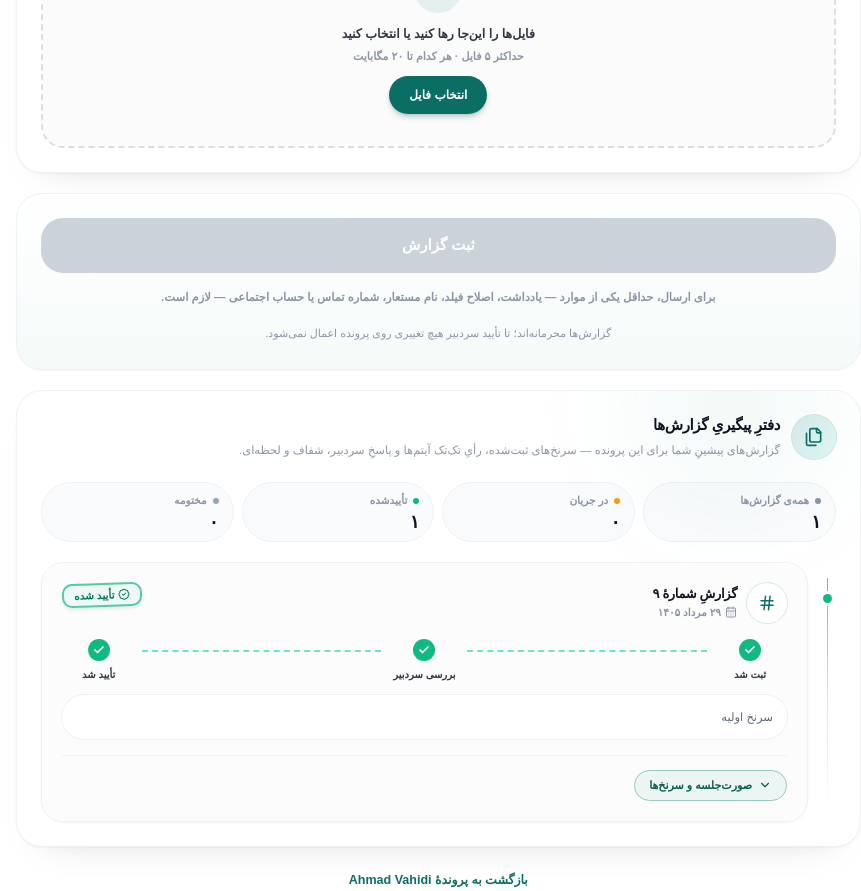
Test: ReportPanel — دفترِ پیگیریِ گزارش‌ها › صورت‌جلسه — فچِ lazy رأیِ تک‌آیتمی + پاسخ سردبیر + نشان اعمال
The image size is (861, 891).
(page scrolled)
Expected: the heading "گزارشِ شمارهٔ ۹" is shown, [652,586,737,603]
Click the button "صورت‌جلسه و سرنخ‌ها". click: (711, 785)
box: [634,770,787,800]
(page scrolled)
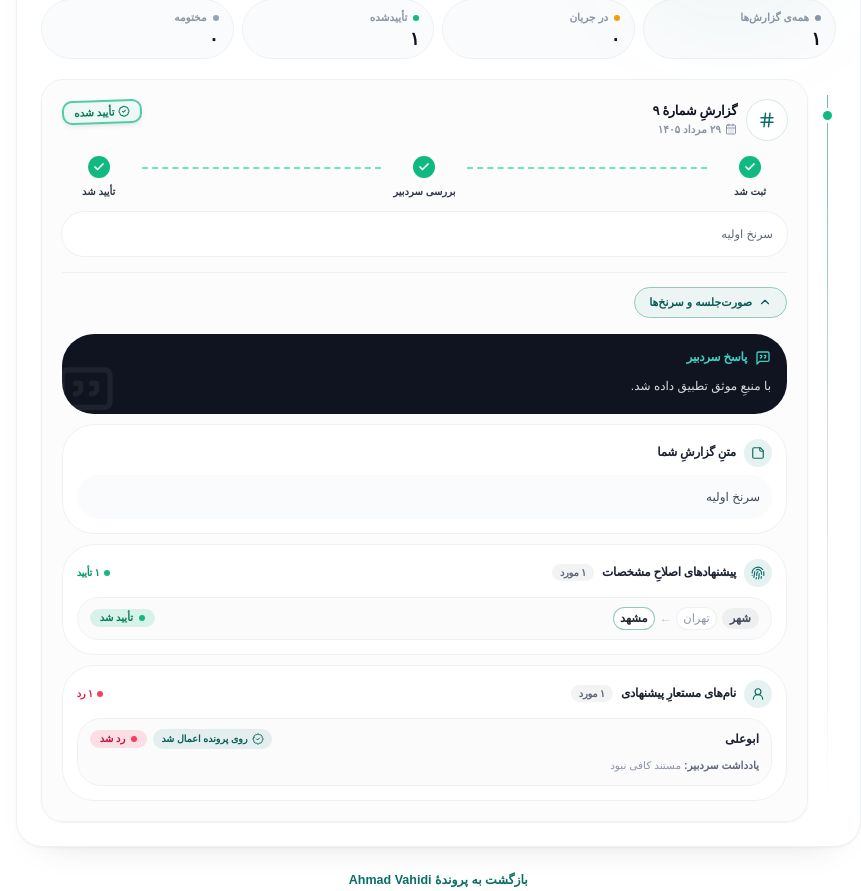
Now the heading "پاسخ سردبیر" is shown, box [687,350,771,366]
Now the text "با منبعِ موثق تطبیق داده شد." is shown, box [631,378,771,392]
Now the text "مشهد" is shown, box [614,608,654,629]
